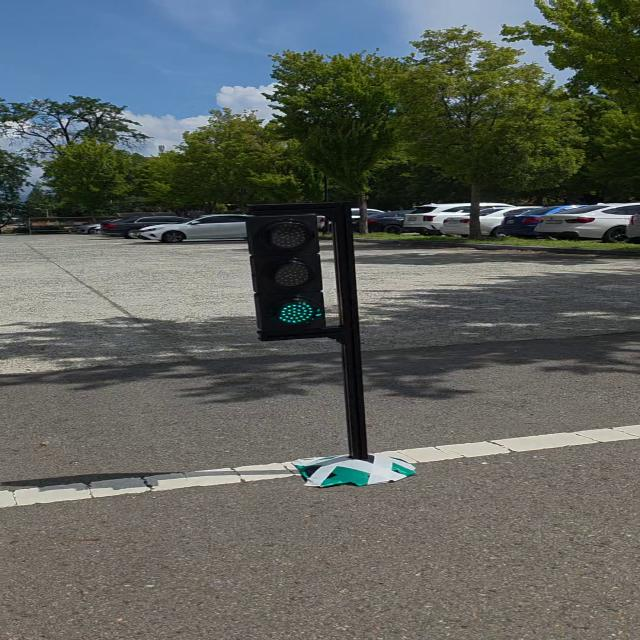green: (247, 203, 329, 337)
